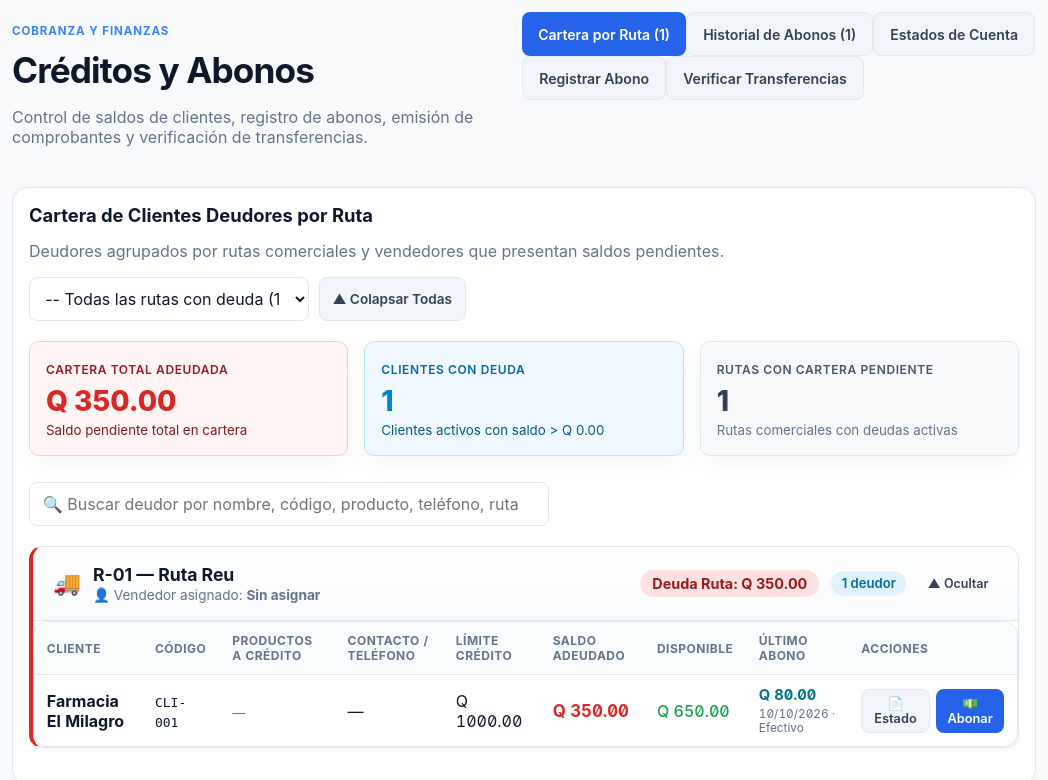
Scenario: CreditPage › permite al administrador auditar el historial de abonos y muestra últimos abonos
Expected: the column heading "Último Abono" is shown, [746,622,849,675]
Expected: the text "Q 80.00" is shown, [759,686,816,704]
Click the button "Historial de Abonos (1)" at (780, 34), box [686,12,873,56]
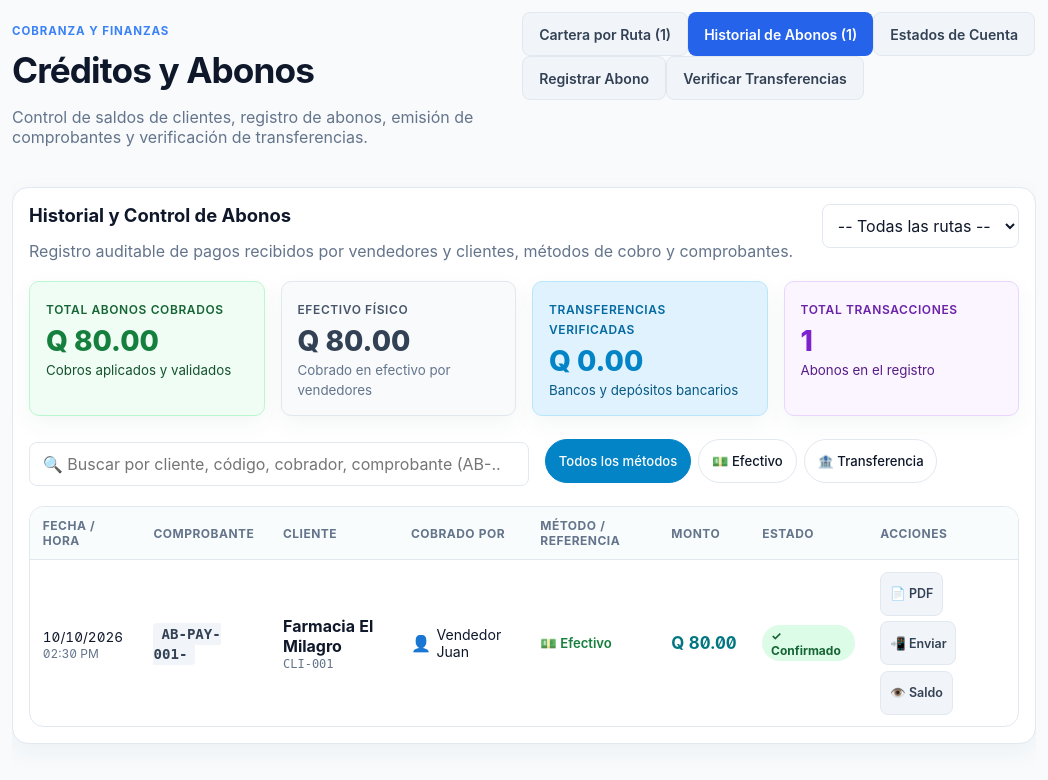
Expected: the heading "Historial y Control de Abonos" is shown, [29,204,291,226]
Expected: the text "Total Abonos Cobrados" is shown, [46,302,224,317]
Expected: the text "Efectivo Físico" is shown, [298,302,408,317]
